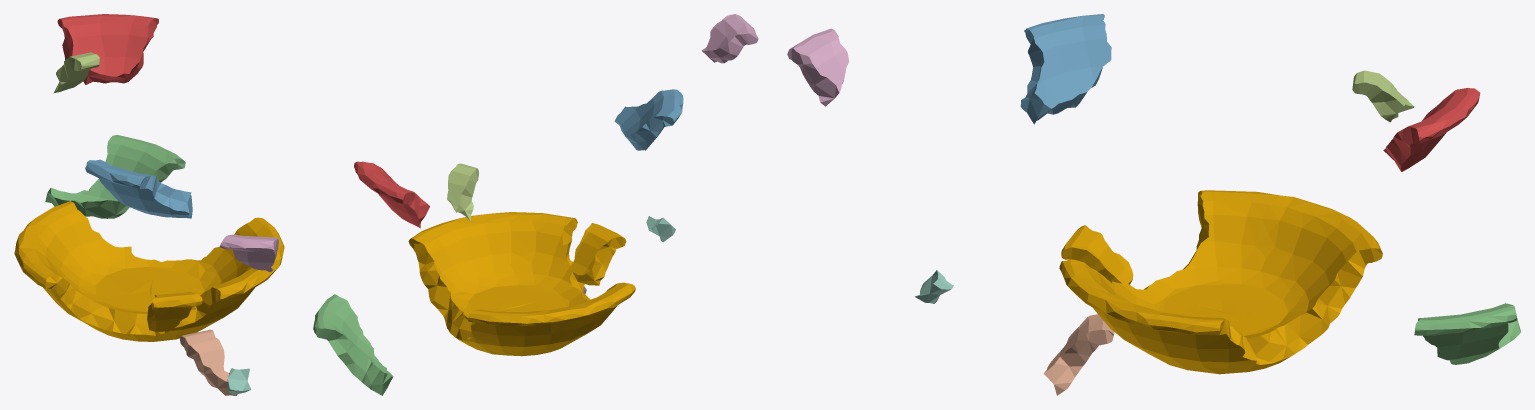
The model's file is fractured_51_8pcs_transformed.glb.
The picture shows the model from 3 angles, left to right: view 1: azimuth 30°, elevation 25°; view 2: azimuth 150°, elevation 25°; view 3: azimuth 270°, elevation 25°; orthographic projection. The views are drawn at different scales.
Parts seen in each view (by area): view 1: piece_0.obj, piece_1.obj, piece_3.obj, piece_2.obj, piece_7.obj, piece_6.obj, piece_5.obj, piece_4.obj; view 2: piece_0.obj, piece_3.obj, piece_2.obj, piece_1.obj, piece_6.obj, piece_5.obj, piece_4.obj; view 3: piece_0.obj, piece_2.obj, piece_3.obj, piece_1.obj, piece_6.obj, piece_7.obj, piece_5.obj, piece_4.obj.
Part boxes in pixels (x1,y1,x2,y2): piece_0.obj: (14,201,284,341); piece_1.obj: (57,14,158,84); piece_3.obj: (45,135,185,218); piece_2.obj: (85,159,192,218); piece_7.obj: (180,329,237,395); piece_6.obj: (220,234,278,272); piece_5.obj: (53,52,99,93); piece_4.obj: (227,368,251,394); piece_0.obj: (408,212,635,356); piece_3.obj: (313,294,393,395); piece_2.obj: (614,89,683,150); piece_1.obj: (354,161,429,228); piece_6.obj: (702,14,758,63); piece_5.obj: (447,163,478,221); piece_4.obj: (646,216,675,242); piece_0.obj: (1059,190,1382,374); piece_2.obj: (1020,14,1111,124); piece_3.obj: (1414,303,1520,364); piece_1.obj: (1383,88,1480,171); piece_6.obj: (787,28,849,106); piece_7.obj: (1044,314,1114,395); piece_5.obj: (1352,70,1414,122); piece_4.obj: (915,270,953,303).
Bounding box in the file's own units: 0.9996 × 1.04 × 2.26.
